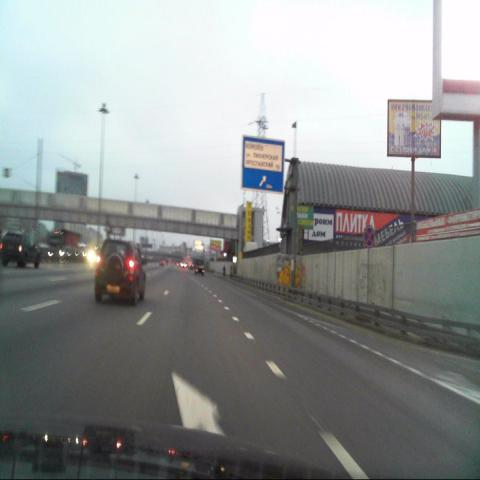3_27: (364, 226, 375, 249)
